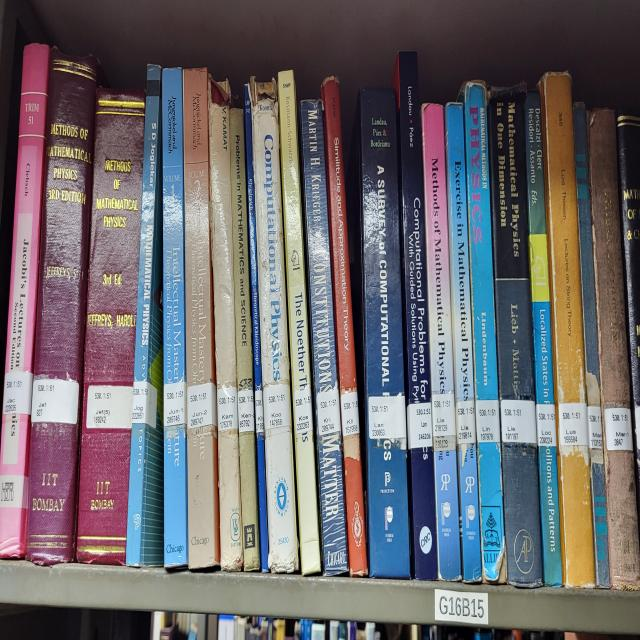Book: (26, 49, 98, 565), (76, 87, 146, 565), (348, 89, 410, 576), (540, 73, 595, 587), (488, 95, 542, 587), (0, 43, 50, 557), (588, 108, 640, 590), (392, 51, 438, 579), (250, 78, 299, 571), (321, 78, 368, 576), (300, 100, 348, 574), (278, 70, 320, 574), (464, 84, 506, 582), (421, 103, 461, 582), (126, 65, 164, 565), (182, 68, 220, 568), (574, 103, 610, 587), (445, 103, 481, 582), (209, 78, 242, 571), (230, 108, 260, 571), (162, 68, 189, 568), (244, 84, 269, 571), (618, 114, 640, 528), (532, 300, 562, 584)
Label: (31, 376, 79, 425), (86, 384, 132, 430), (500, 400, 536, 446), (368, 395, 406, 438), (262, 384, 290, 433), (2, 371, 32, 414), (188, 381, 216, 427), (316, 384, 340, 436), (559, 403, 588, 446), (431, 392, 456, 441), (604, 409, 632, 452), (132, 381, 158, 427), (406, 403, 432, 449), (475, 400, 500, 444), (164, 381, 186, 427), (218, 387, 238, 433), (294, 387, 312, 436), (456, 400, 476, 444), (340, 390, 359, 436), (536, 403, 556, 446), (238, 390, 255, 433), (588, 406, 602, 449), (255, 390, 264, 436), (635, 406, 640, 452)
